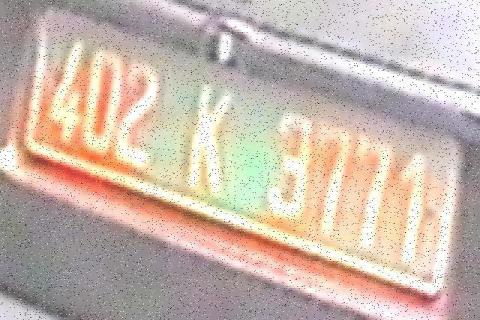LicensePlate: (13, 0, 467, 312)
